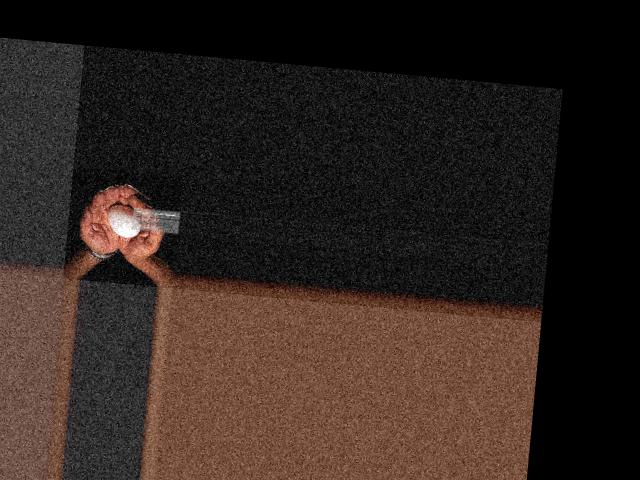egg: (105, 203, 141, 237)
